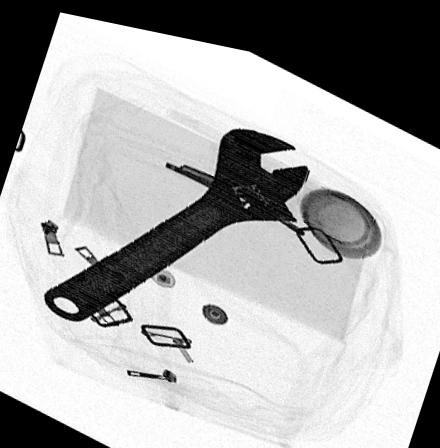Wrench: (39, 115, 310, 320)
